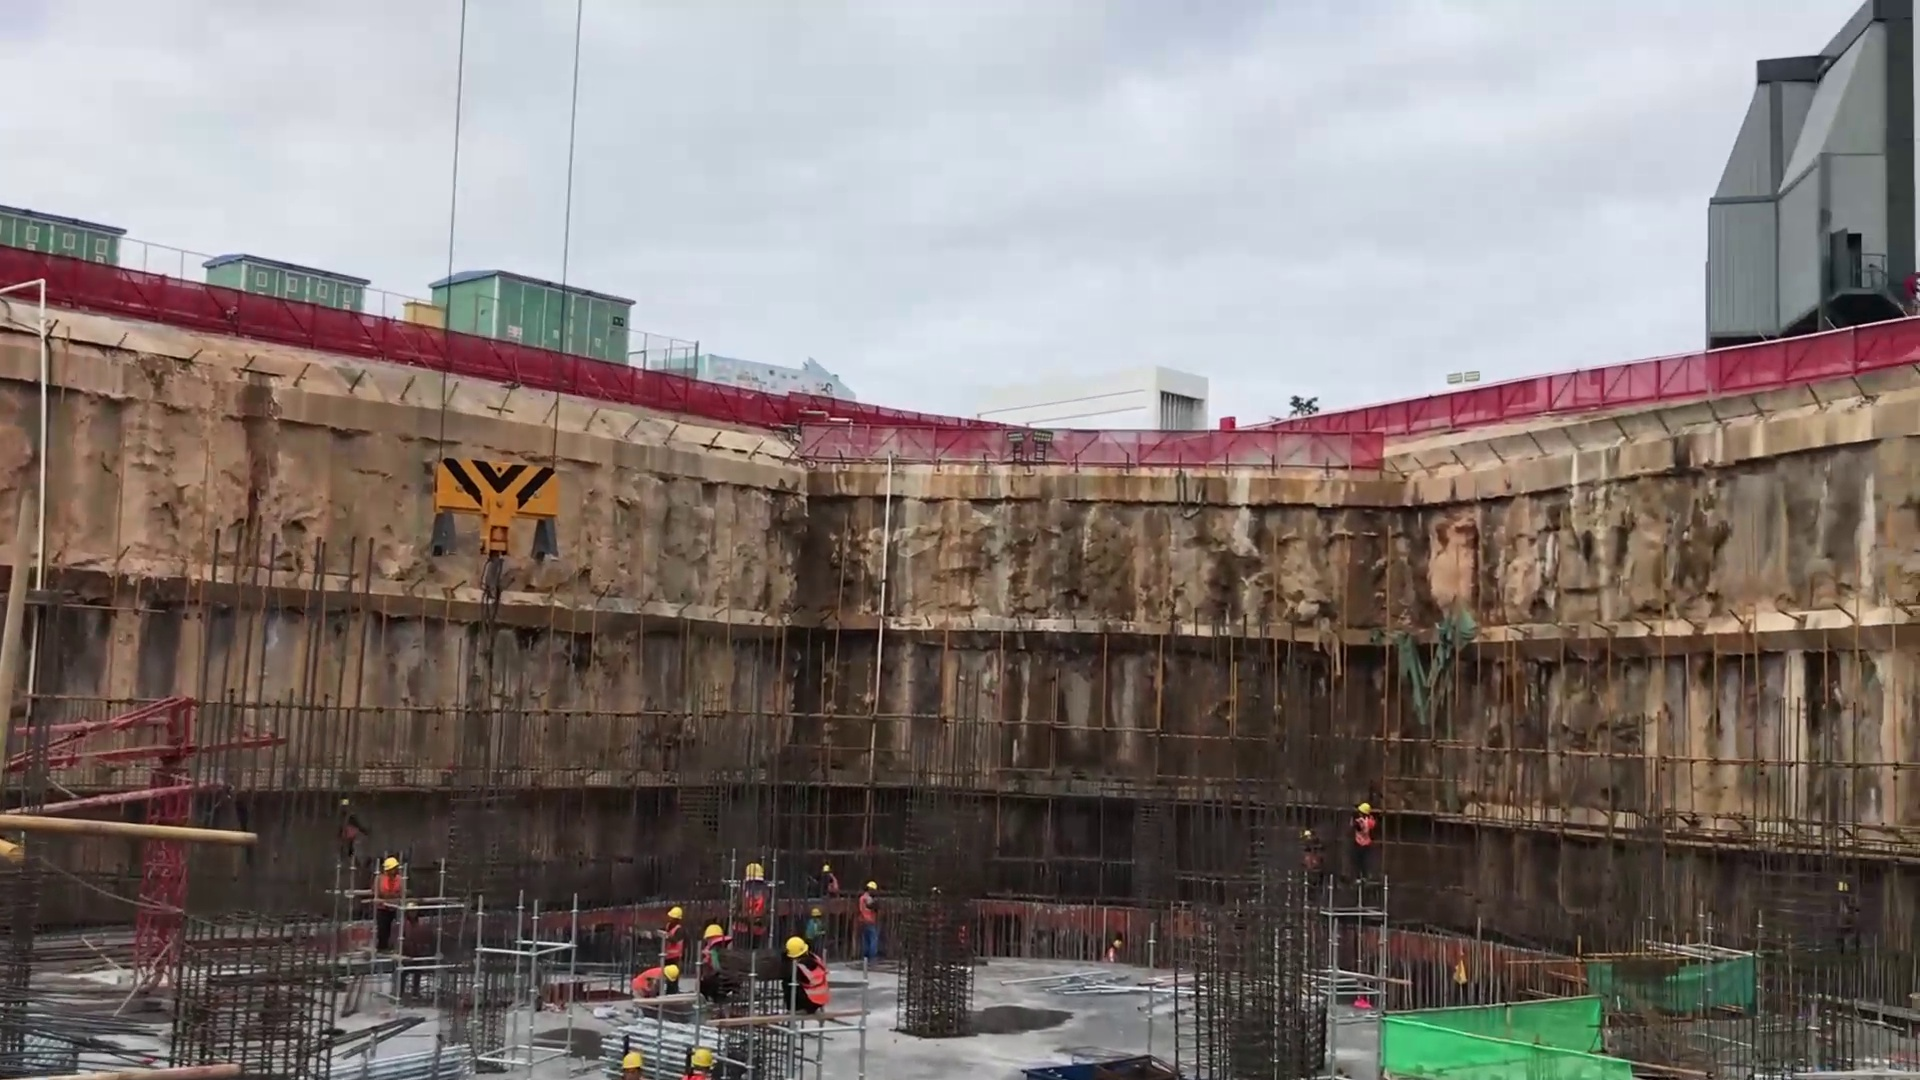helmet: (381, 854, 447, 885), (770, 929, 808, 962), (744, 864, 793, 888), (1359, 796, 1385, 815)
hook: (423, 441, 594, 595)
person: (847, 873, 898, 984), (689, 916, 744, 1003), (779, 933, 831, 1026), (735, 857, 777, 942), (652, 900, 694, 974), (370, 857, 406, 946), (624, 956, 678, 1003), (1344, 799, 1381, 866)
vest: (785, 956, 832, 1004), (858, 892, 890, 920)
